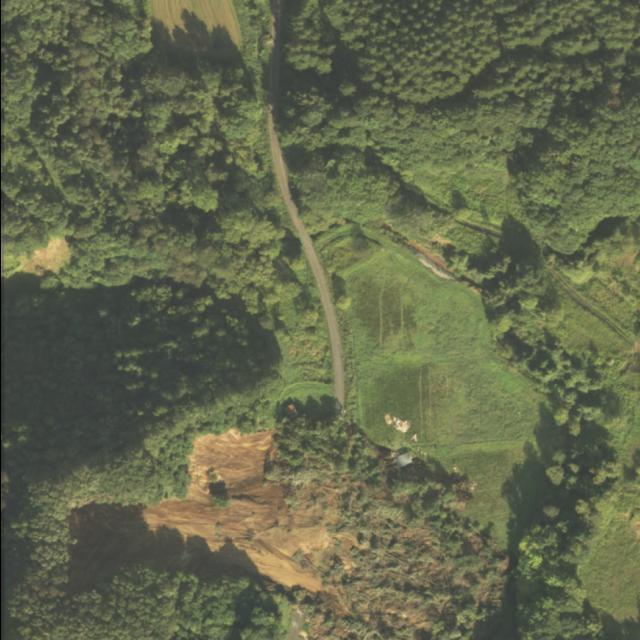landslide: (142, 429, 328, 593)
